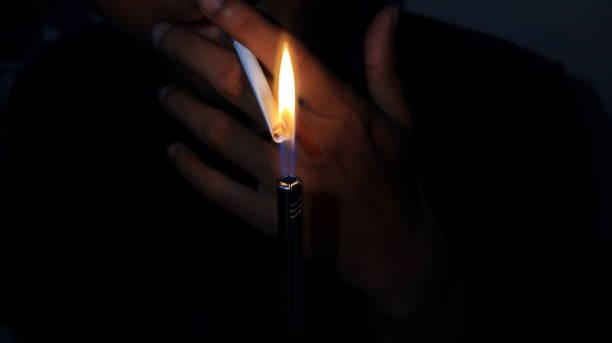Fire: (277, 40, 297, 179)
